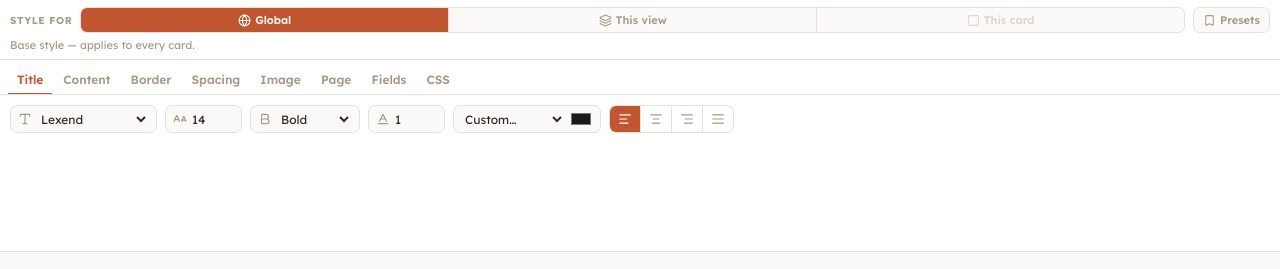
it: StyleControls (scope switcher: Global / This view / This card) › reset at This view scope clears the schema override, falling back to global
The width and height of the screenshot is (1280, 269).
Step 1. Click the tab "This view" → (633, 20), box [449, 8, 817, 32]
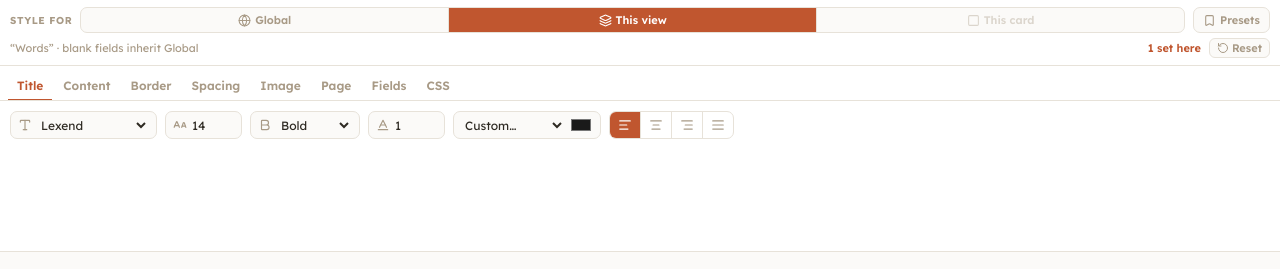
Step 2. Click the tab "Border" → (151, 86), box [122, 72, 181, 101]
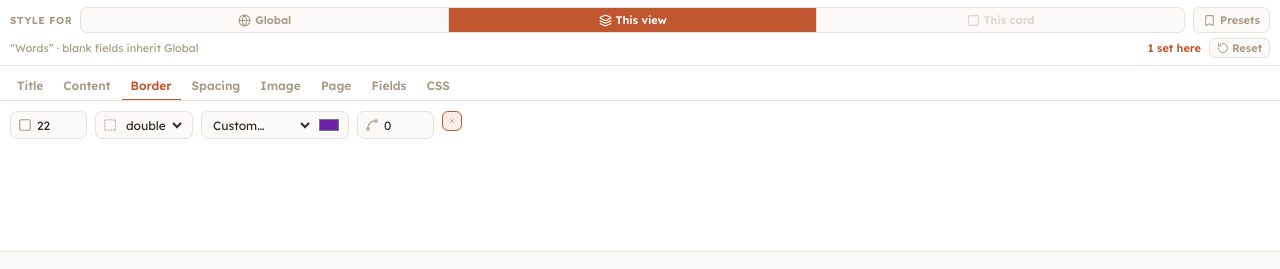
Expected: the number field named "Width" holds "22", [37, 118, 79, 132]
Step 3. Click the button named "Reset border" → (452, 121), box [442, 111, 462, 131]
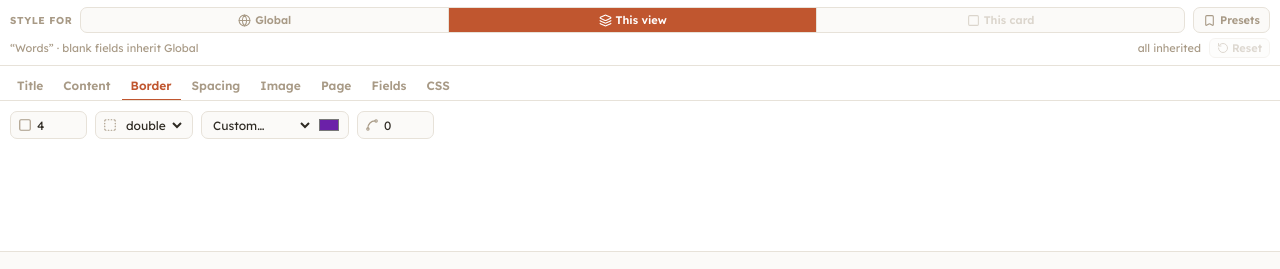
Expected: the number field named "Width" holds "4", [37, 118, 79, 132]
